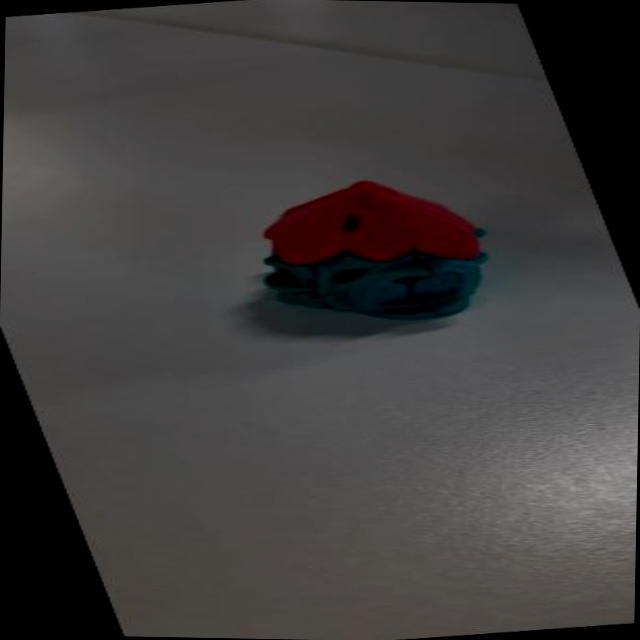House: (194, 160, 522, 338)
